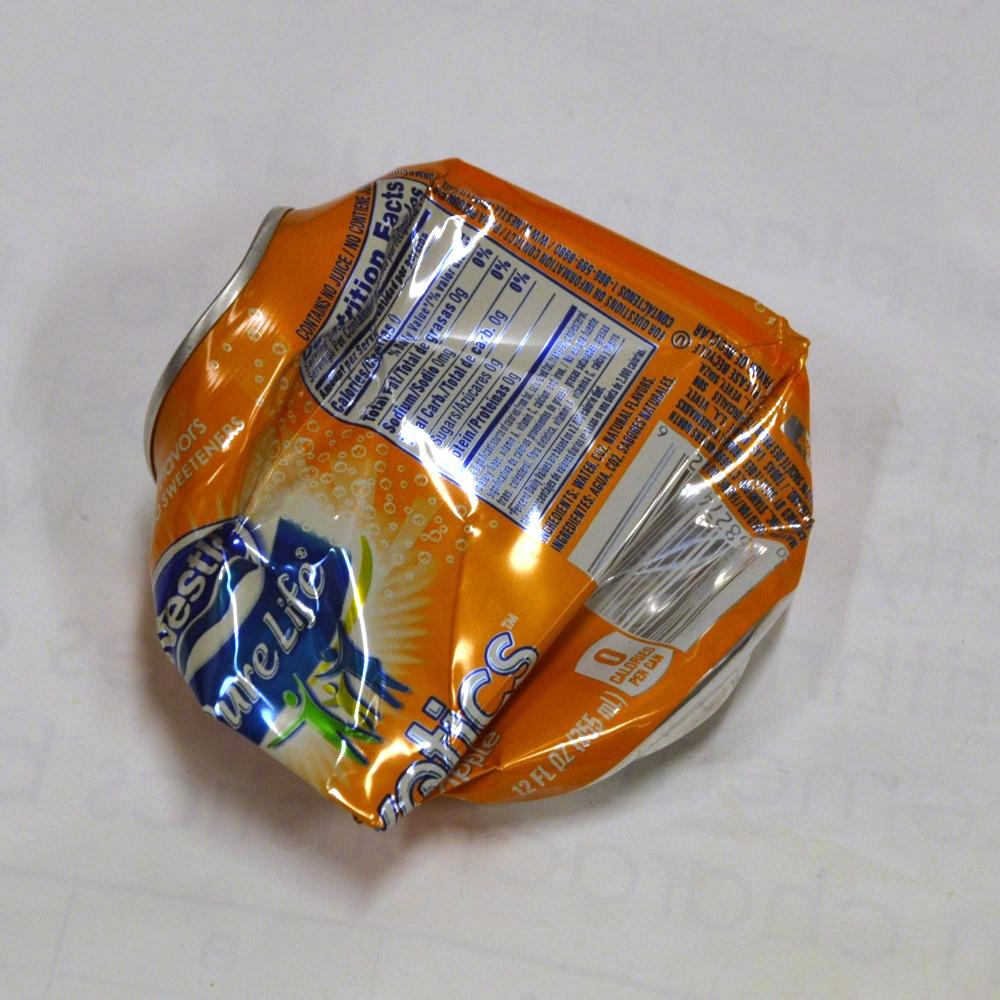Metal: (118, 132, 833, 838)
